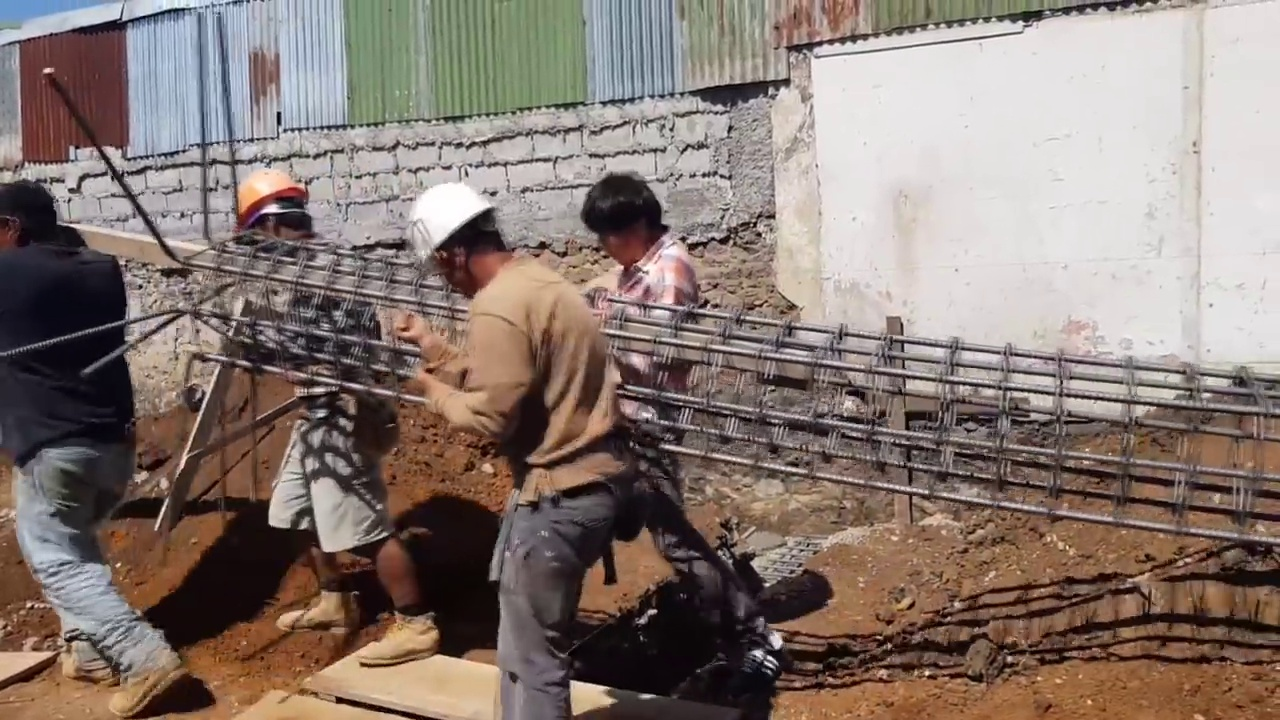helmet: (405, 178, 496, 278), (227, 171, 302, 230)
helmet-off: (578, 170, 664, 279), (0, 178, 57, 251)
helmet-on: (404, 176, 512, 299), (225, 164, 320, 254)
person: (393, 170, 638, 719), (219, 159, 441, 669), (0, 166, 164, 702), (578, 175, 702, 510)
